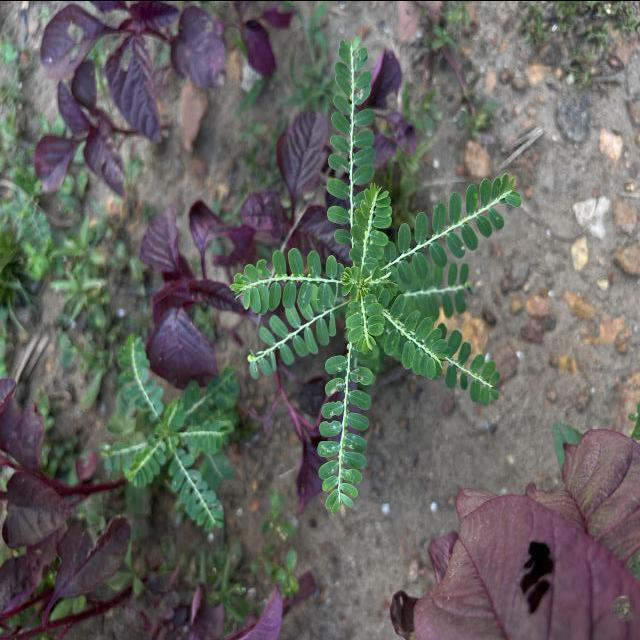Phyllanthus niruri: (382, 169, 524, 287), (322, 32, 380, 248), (314, 351, 375, 520), (226, 244, 353, 312), (374, 289, 451, 382), (244, 304, 338, 380)
